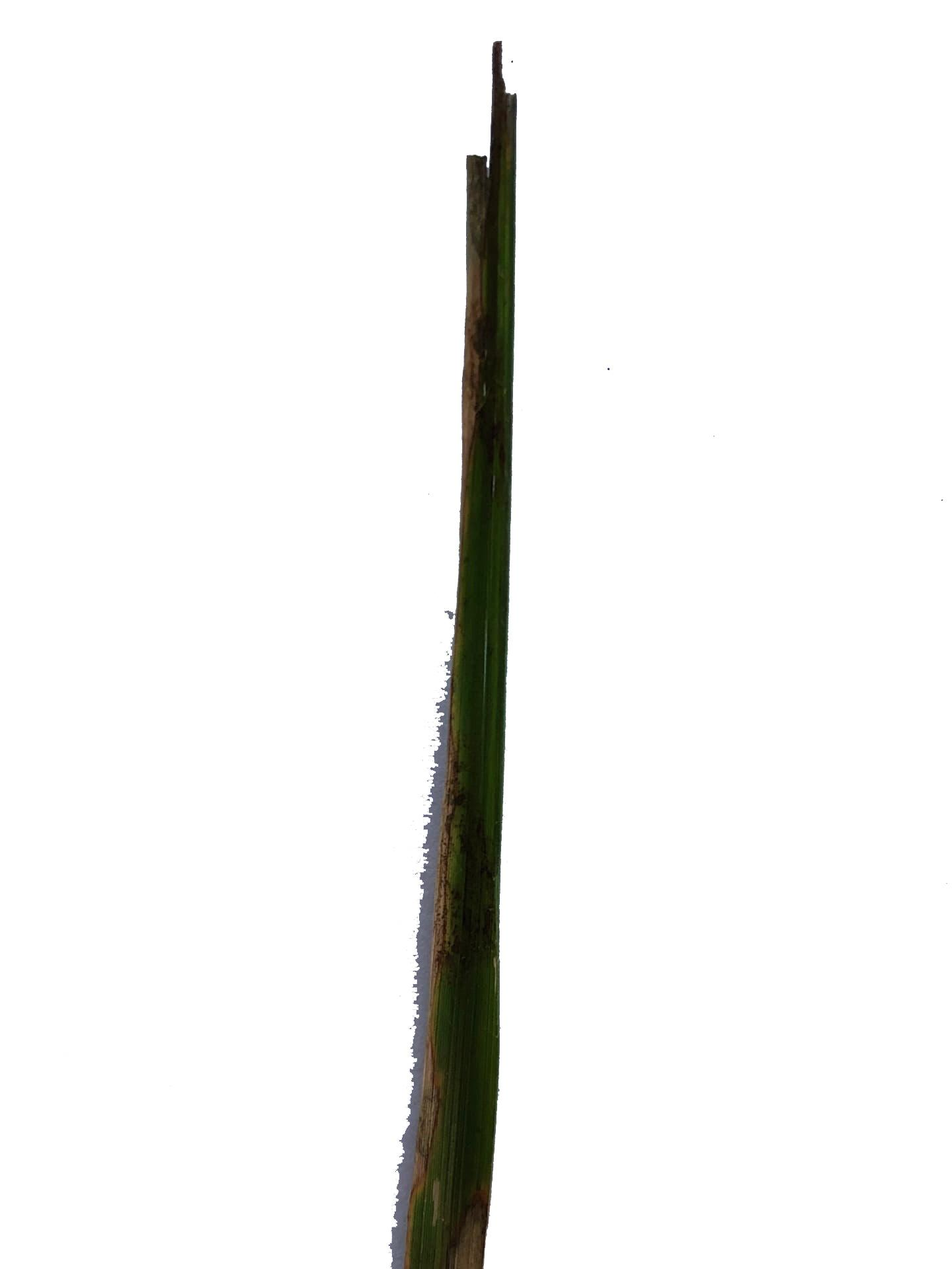Blight: (410, 737, 450, 1269), (493, 1170, 496, 1200)
